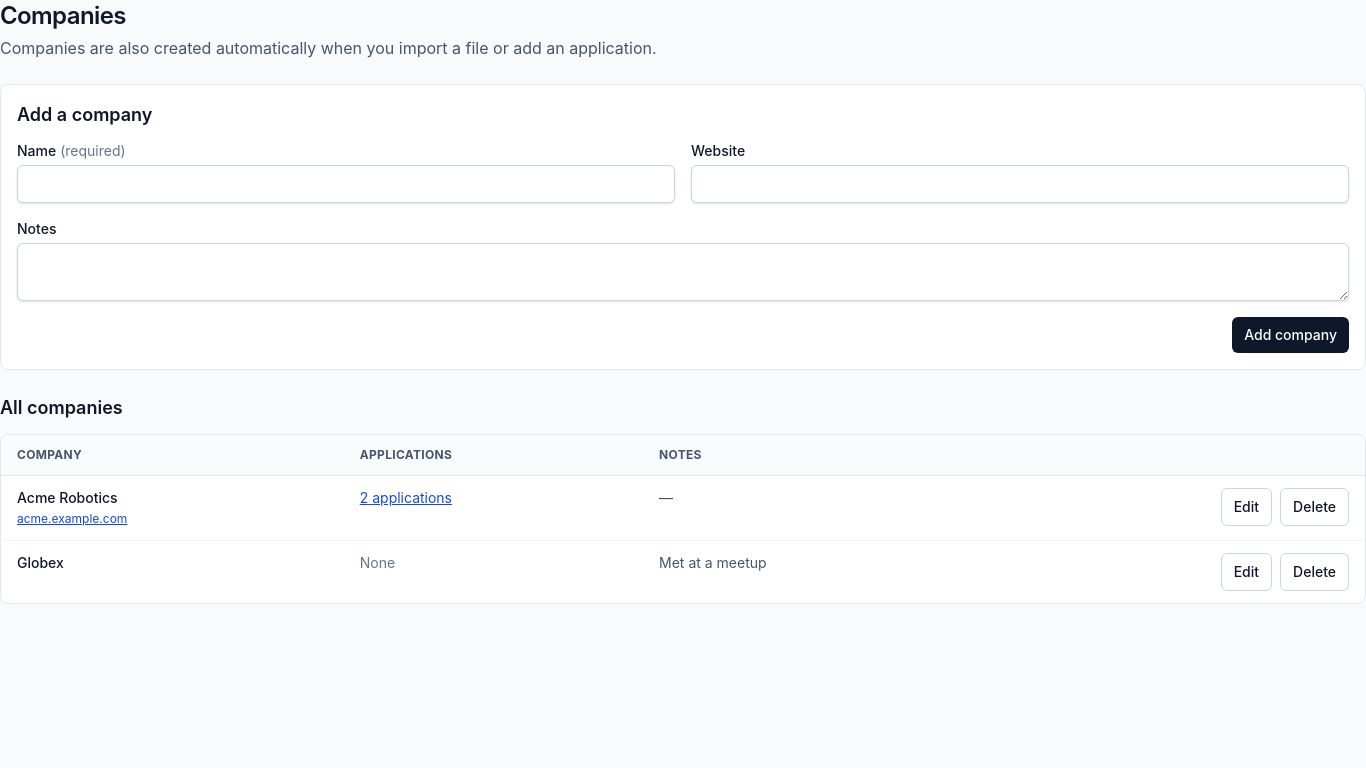
Test: CompaniesPage › deletes a company that has no applications
Click the button with aria-label "Delete Globex". click: click(1315, 572)
box: [1280,553,1349,591]
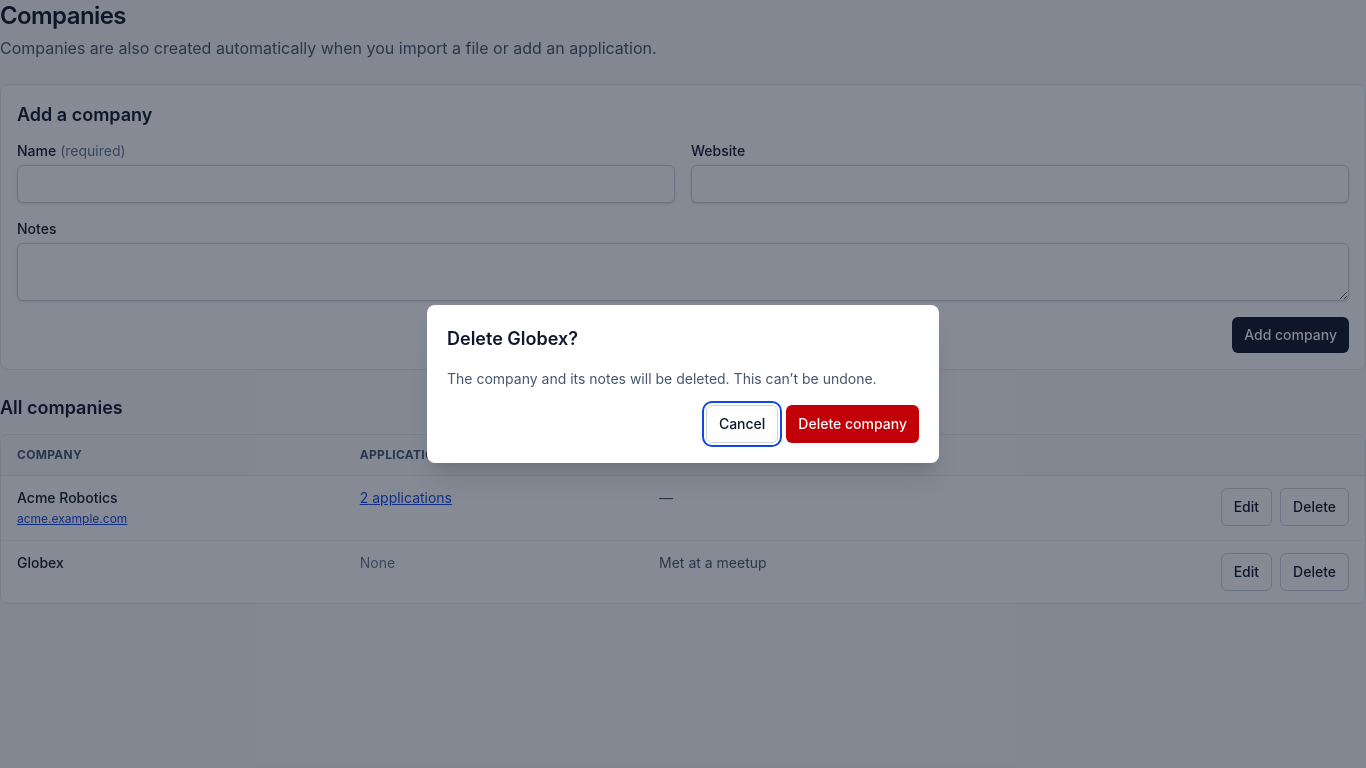
Click the button "Delete company". click: click(853, 424)
box: [786,405,919,443]
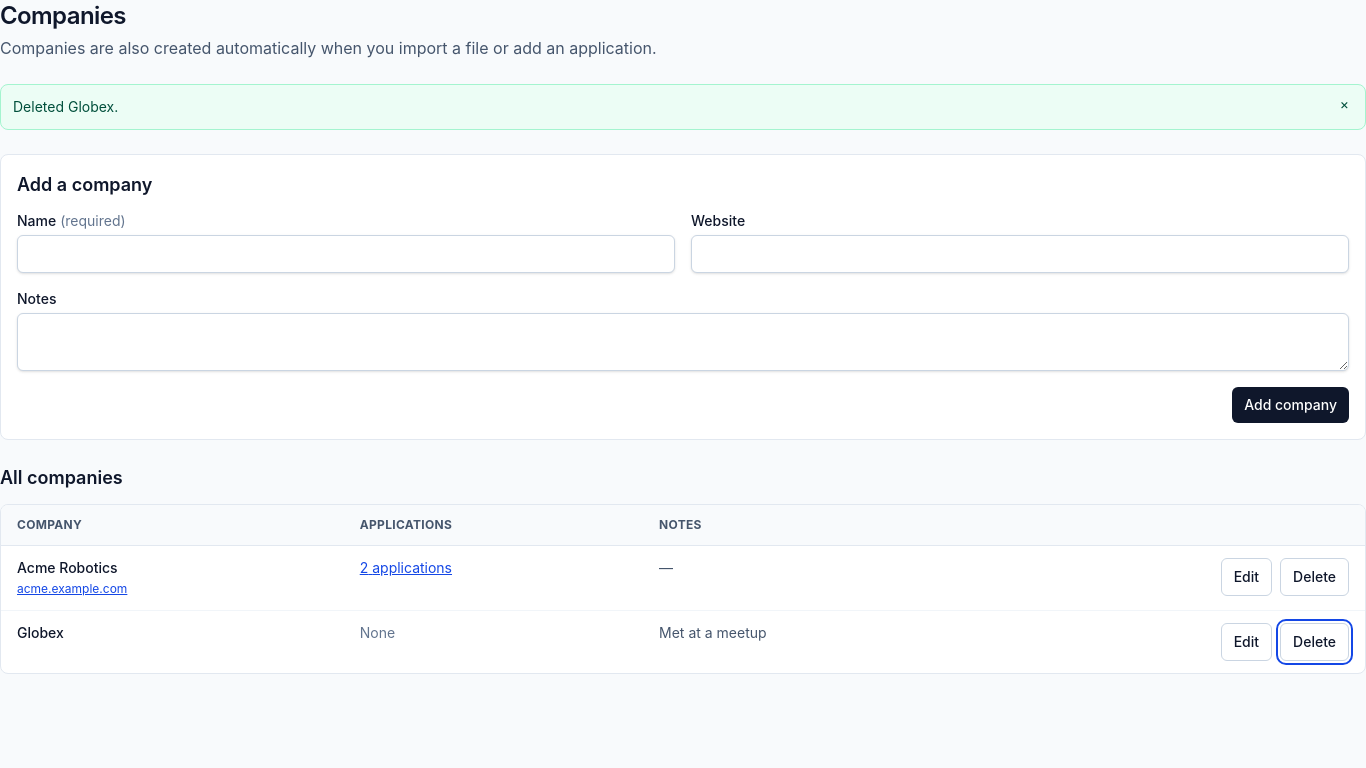
Now the text "Deleted Globex." is shown, box [13,98,118,115]
